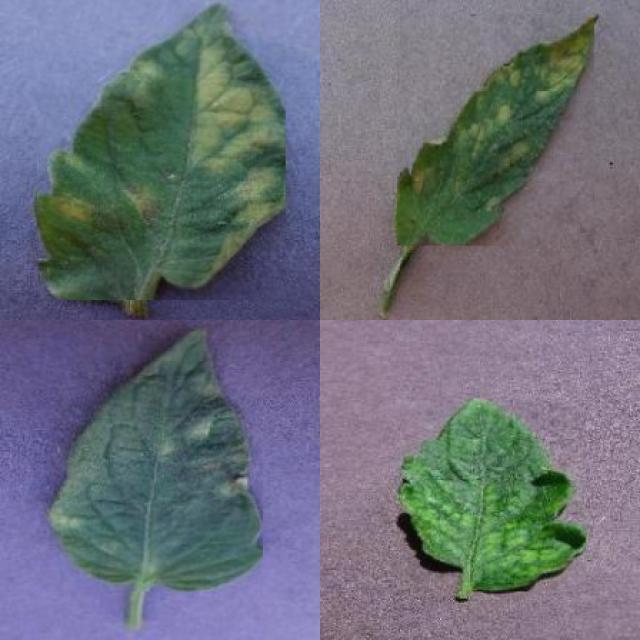Leaf Mold: (37, 1, 286, 300), (46, 328, 263, 592), (398, 14, 595, 246)
Mosaic Virus: (398, 398, 586, 592)
